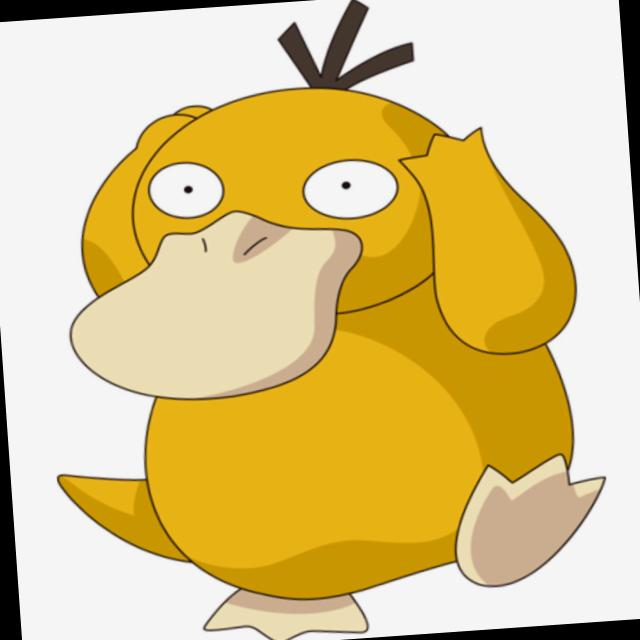Duck: (24, 7, 622, 640)
